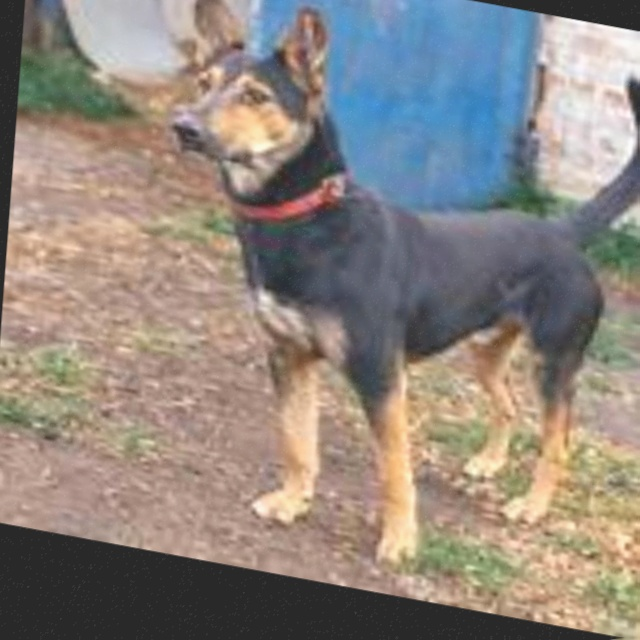dog: (98, 0, 640, 612)
